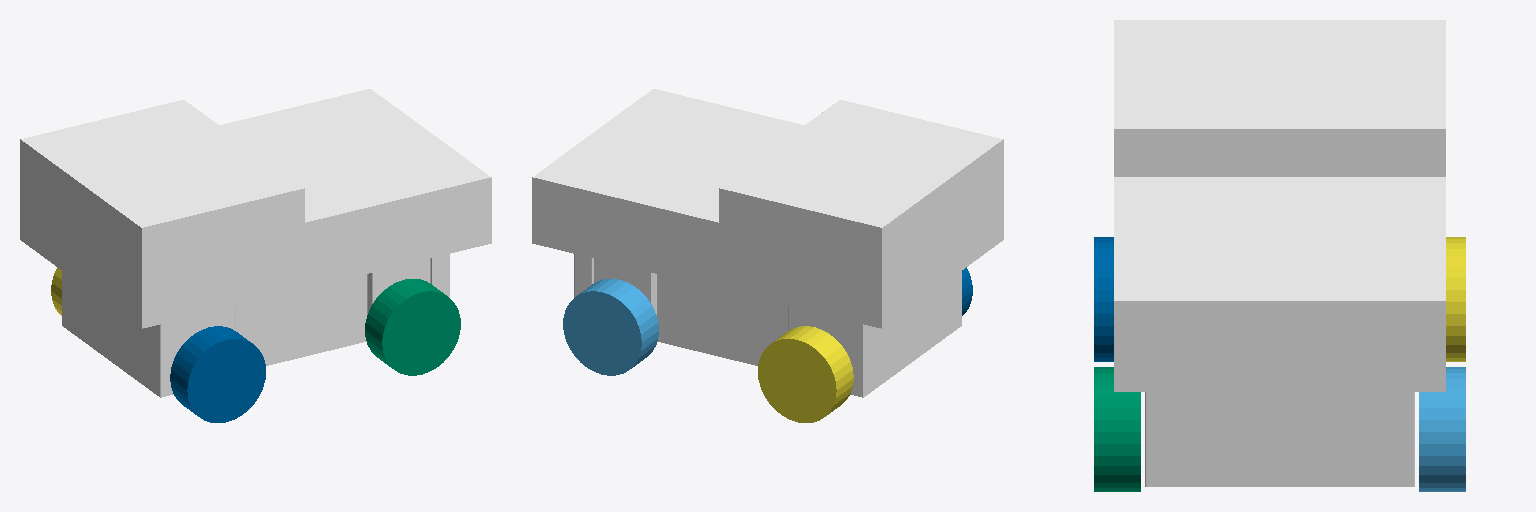
URDF robot description (mobile_platform_sim):
<!--
URDF description for the mecanum-wheeled mobile platform (mobile_platform_sim).

This file serves two purposes:
    1. Provides the full link/joint tree for robot_state_publisher to build the TF tree. Links include
the base, four wheels and two Livox MID-70 Lidar frames.
    2. Declares Webots plugin and device bindings via the webots block, parsed by webots_ros2_driver at
runtime.

Webots plugins:
    MecanumRobotDriver — custom mecanum kinematics controller
(mobile_platform_sim/mecanum_robot_driver.py)

Webots devices:
    lidar — Livox MID-70 front lidar -> /livox/lidar_front
    lidar2 — Livox MID-70 back lidar -> /livox/lidar_back

TF tree:
    base_link
    ├── wheel_fl  (motor_fl,  continuous)
    ├── wheel_fr  (motor_fr,  continuous)
    ├── wheel_bl  (motor_bl,  continuous)
    ├── wheel_br  (motor_br,  continuous)
    ├── livox_frame  (livox_joint1, fixed) — front lidar
    └── livox_frame2 (livox_joint2, fixed) — back  lidar
-->
<robot name="mobile_platform_sim">
    <!-- PLATFORM GEOMETRY    -->
    <!-- Base chassis — visual and collision from CAD mesh -->
    <link name="base_link">
        <visual>
            <origin xyz="0 0 0" rpy="0 0 0" />
            <geometry>
                <mesh filename="package://mobile_platform_sim/meshes/chassis.stl" />
            </geometry>
            <material name="white">
                <color rgba="1.0 1.0 1.0 1.0" />
            </material>
        </visual>
        <collision>
            <origin xyz="0 0 0" rpy="0 0 0" />
            <geometry>
                <mesh filename="package://mobile_platform_sim/meshes/chassis.stl" />
            </geometry>
        </collision>
    </link>
    <!-- Front-left wheel -->
    <link name="wheel_fl">
        <visual>
            <origin rpy="1.5708 0 0" xyz="0 0 0" />
            <geometry>
                <cylinder length="0.077" radius="0.1015" />
            </geometry>
        </visual>
        <collision>
            <origin rpy="1.5708 0 0" xyz="0 0 0" />
            <geometry>
                <cylinder length="0.077" radius="0.1015" />
            </geometry>
        </collision>
    </link>
    <!-- Front-right wheel -->
    <link name="wheel_fr">
        <visual>
            <origin rpy="1.5708 0 0" xyz="0 0 0" />
            <geometry>
                <cylinder length="0.077" radius="0.1015" />
            </geometry>
        </visual>
        <collision>
            <origin rpy="1.5708 0 0" xyz="0 0 0" />
            <geometry>
                <cylinder length="0.077" radius="0.1015" />
            </geometry>
        </collision>
    </link>
    <!-- Back-left wheel -->
    <link name="wheel_bl">
        <visual>
            <origin rpy="1.5708 0 0" xyz="0 0 0" />
            <geometry>
                <cylinder length="0.077" radius="0.1015" />
            </geometry>
        </visual>
        <collision>
            <origin rpy="1.5708 0 0" xyz="0 0 0" />
            <geometry>
                <cylinder length="0.077" radius="0.1015" />
            </geometry>
        </collision>
    </link>
    <!-- Back-right wheel -->
    <link name="wheel_br">
        <visual>
            <origin rpy="1.5708 0 0" xyz="0 0 0" />
            <geometry>
                <cylinder length="0.077" radius="0.1015" />
            </geometry>
        </visual>
        <collision>
            <origin rpy="1.5708 0 0" xyz="0 0 0" />
            <geometry>
                <cylinder length="0.077" radius="0.1015" />
            </geometry>
        </collision>
    </link>
    <!-- Livox MID-70 front lidar frame -->
    <link name="livox_frame">
        <visual>
            <origin xyz="0 0 0" rpy="0 0 0" />
            <geometry>
                <mesh filename="package://mobile_platform_sim/meshes/livox_mount.stl" />
            </geometry>
            <material name="white">
                <color rgba="1.0 1.0 1.0 1.0" />
            </material>
        </visual>
        <collision>
            <origin xyz="0 0 0" rpy="0 0 0" />
            <geometry>
                <mesh filename="package://mobile_platform_sim/meshes/livox_mount.stl" />
            </geometry>
        </collision>
    </link>
    <!-- Livox MID-70 back lidar frame -->
    <link name="livox_frame2">
        <visual>
            <origin xyz="0 0 0" rpy="0 0 0" />
            <geometry>
                <mesh filename="package://mobile_platform_sim/meshes/livox_mount.stl" />
            </geometry>
            <material name="white">
                <color rgba="1.0 1.0 1.0 1.0" />
            </material>
        </visual>
        <collision>
            <origin xyz="0 0 0" rpy="0 0 0" />
            <geometry>
                <mesh filename="package://mobile_platform_sim/meshes/livox_mount.stl" />
            </geometry>
        </collision>
    </link>
    <!-- JOINTS -->
    <!-- Front-left wheel: L_X=0.2505, L_Y=0.26536 -->
    <joint name="motor_fl" type="continuous">
        <origin rpy="0 0 0" xyz="0.2505 0.26536 0" />
        <parent link="base_link" />
        <child link="wheel_fl" />
        <axis xyz="0 1 0" />
        <limit effort="100" velocity="100" />
    </joint>
    <!-- Front-right wheel -->
    <joint name="motor_fr" type="continuous">
        <origin rpy="0 0 0" xyz="0.2505 -0.26536 0" />
        <parent link="base_link" />
        <child link="wheel_fr" />
        <axis xyz="0 1 0" />
        <limit effort="100" velocity="100" />
    </joint>
    <!-- Back-left wheel -->
    <joint name="motor_bl" type="continuous">
        <origin rpy="0 0 0" xyz="-0.2505 0.26536 0" />
        <parent link="base_link" />
        <child link="wheel_bl" />
        <axis xyz="0 1 0" />
        <limit effort="100" velocity="100" />
    </joint>
    <!-- Back-right wheel -->
    <joint name="motor_br" type="continuous">
        <origin rpy="0 0 0" xyz="-0.2505 -0.26536 0" />
        <parent link="base_link" />
        <child link="wheel_br" />
        <axis xyz="0 1 0" />
        <limit effort="100" velocity="100" />
    </joint>
    <!-- Front lidar: 0.4583 m ahead, 0.0927 m above base -->
    <joint name="livox_joint1" type="fixed">
        <origin rpy="0 0 0" xyz="0.4583 0 0.0927" />
        <parent link="base_link" />
        <child link="livox_frame" />
    </joint>
    <!-- Back lidar: rotated 180 deg around Z -->
    <joint name="livox_joint2" type="fixed">
        <origin rpy="0 0 3.14159" xyz="-0.4583 0 0.0927" />
        <parent link="base_link" />
        <child link="livox_frame2" />
    </joint>
    <!-- WEBOTS / ROS2 PLUGINS -->
    <webots>
        <!--Custom mecanum kinematics controller (mobile_platform_sim/mecanum_robot_driver.py) -->
        <plugin type="mobile_platform_sim.mecanum_robot_driver.MecanumRobotDriver" />
        <!-- Livox MID-70 front lidar -->
        <device reference="lidar" type="Lidar">
            <ros>
                <enabled>true</enabled>
                <updateRate>10</updateRate>
                <topicName>/livox/lidar_front</topicName>
                <frameName>livox_frame</frameName>
            </ros>
        </device>
        <!-- Livox MID-70 back lidar -->
        <device reference="lidar2" type="Lidar">
            <ros>
                <enabled>true</enabled>
                <updateRate>10</updateRate>
                <topicName>/livox/lidar_back</topicName>
                <frameName>livox_frame2</frameName>
            </ros>
        </device>
    </webots>
</robot>

--- What the picture shows (computed from the rendered views, not written in the file) ---
The picture shows the robot from 3 angles, left to right: view 1: azimuth 30°, elevation 25°; view 2: azimuth 150°, elevation 25°; view 3: azimuth 270°, elevation 25°; orthographic projection.
Robot: mobile_platform_sim — 7 links, 6 joints (4 continuous, 2 fixed); root link base_link; default pose: all joints at 0.
Links seen in each view (by area): view 1: base_link, wheel_fr, wheel_br; view 2: base_link, wheel_fl, wheel_bl; view 3: base_link, wheel_fl, wheel_fr, wheel_bl, wheel_br.
Link boxes in pixels (x1=…): base_link: x1=20, y1=89, x2=491, y2=397; wheel_fr: x1=365, y1=279, x2=460, y2=375; wheel_br: x1=170, y1=326, x2=265, y2=422; base_link: x1=532, y1=89, x2=1003, y2=397; wheel_fl: x1=563, y1=279, x2=658, y2=375; wheel_bl: x1=758, y1=326, x2=853, y2=422; base_link: x1=1114, y1=20, x2=1445, y2=486; wheel_fl: x1=1419, y1=367, x2=1465, y2=491; wheel_fr: x1=1094, y1=367, x2=1140, y2=491; wheel_bl: x1=1446, y1=237, x2=1465, y2=361; wheel_br: x1=1094, y1=237, x2=1113, y2=361.
Size in the robot's own frame: 0.9 by 0.6077 by 0.5105 metres.
Meshes: 2 distinct files referenced, 1 mesh visuals loaded (1 binary STL); not drawn: 2 (reference not matched to a file when rendering).
